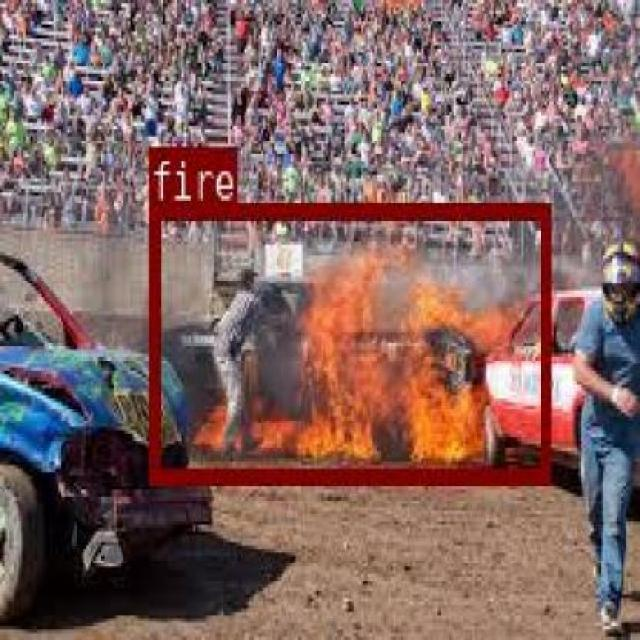Fire: (348, 279, 402, 342)
